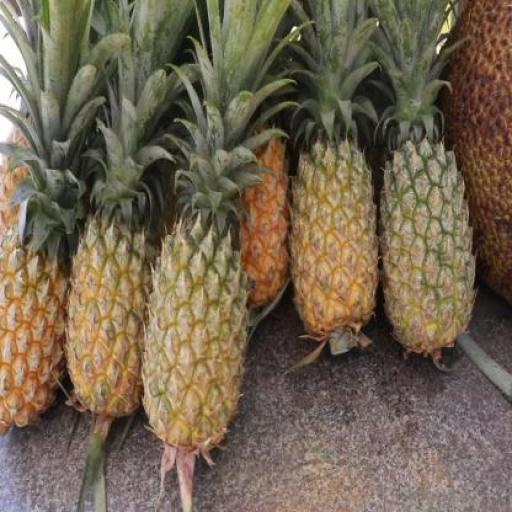------------------------------: (140, 222, 244, 445)
Pineapple - v8 v1: (66, 223, 158, 421), (288, 142, 375, 338), (0, 237, 66, 439)
